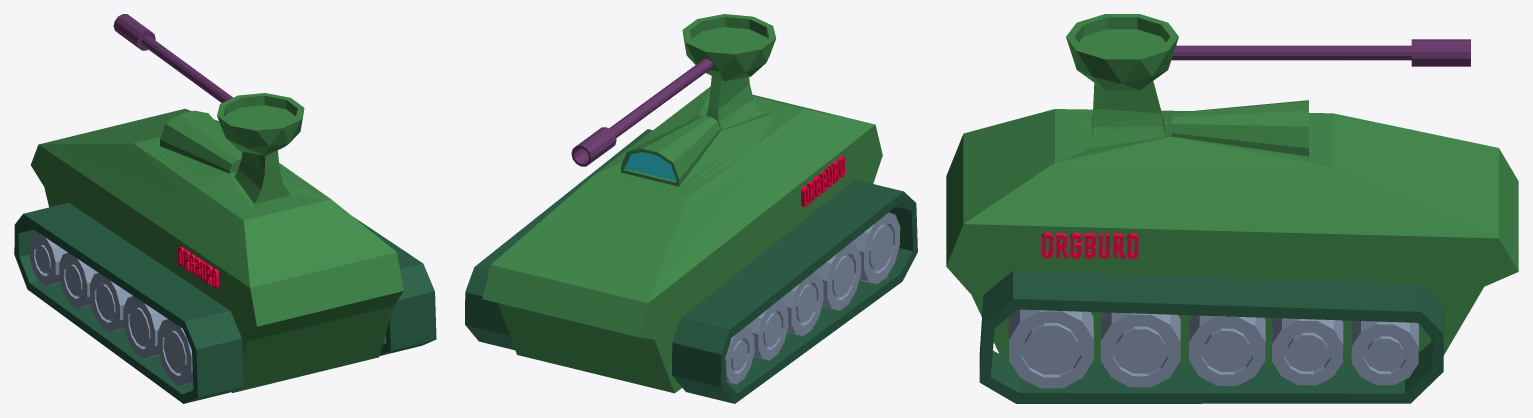
Rendered from tank_01.obj.
3 views of the same model, side by side, from view 1: azimuth 30°, elevation 25°; view 2: azimuth 150°, elevation 25°; view 3: azimuth 270°, elevation 25° (orthographic). The views are drawn at different scales.
Visible parts, largest first — view 1: tank_01_Cube.003; view 2: tank_01_Cube.003; view 3: tank_01_Cube.003.
Part boxes in pixels (<box>): tank_01_Cube.003: <box>14,14,436,403</box>; tank_01_Cube.003: <box>465,14,917,403</box>; tank_01_Cube.003: <box>946,14,1518,403</box>.
Size of the model in its own units: 3.25 by 3.02 by 5.34.
Materials: 2 (2 with a texture image).
